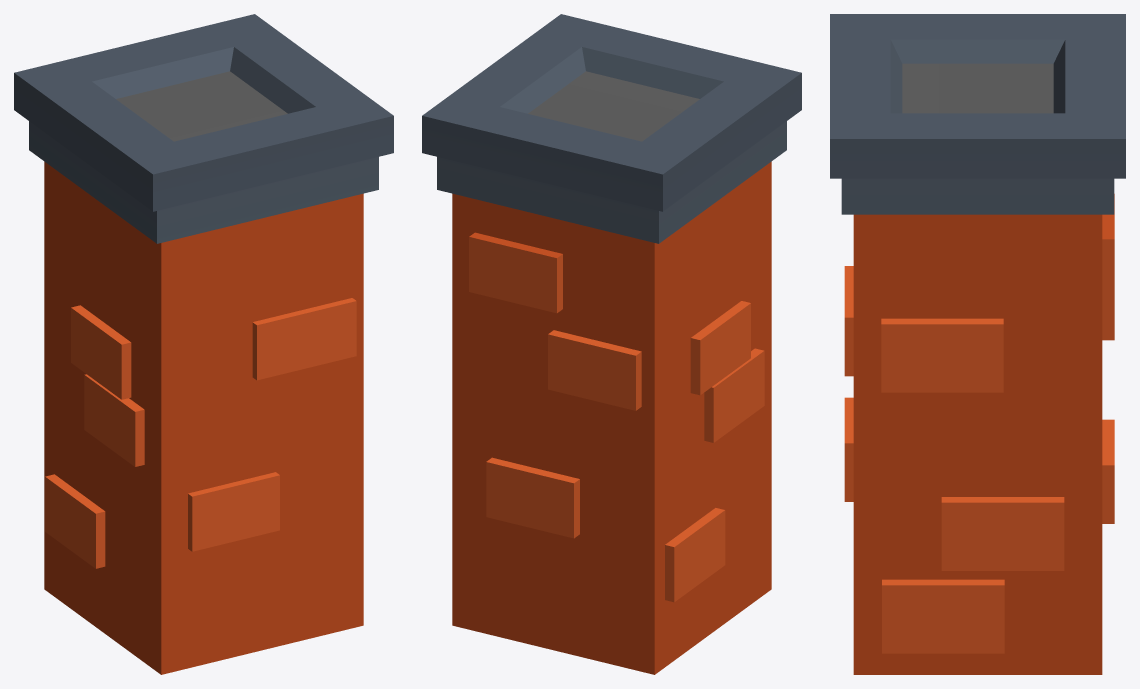
File: Chimney_4_A_1.fbx
The picture shows the model from 3 angles, left to right: view 1: azimuth 30°, elevation 25°; view 2: azimuth 150°, elevation 25°; view 3: azimuth 270°, elevation 25°; orthographic projection. The views are drawn at different scales.
Parts seen in each view (by area): view 1: Chimney_4_A_1; view 2: Chimney_4_A_1; view 3: Chimney_4_A_1.
Boxes of the visible parts, x1,y1,x2,y2 form: Chimney_4_A_1: (14, 14, 393, 674); Chimney_4_A_1: (422, 14, 801, 674); Chimney_4_A_1: (830, 14, 1125, 674).
Size of the model in its own units: 82.7 by 168 by 82.7.
